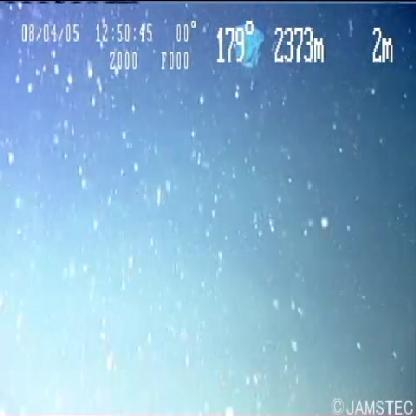Rác: (229, 14, 265, 74)
